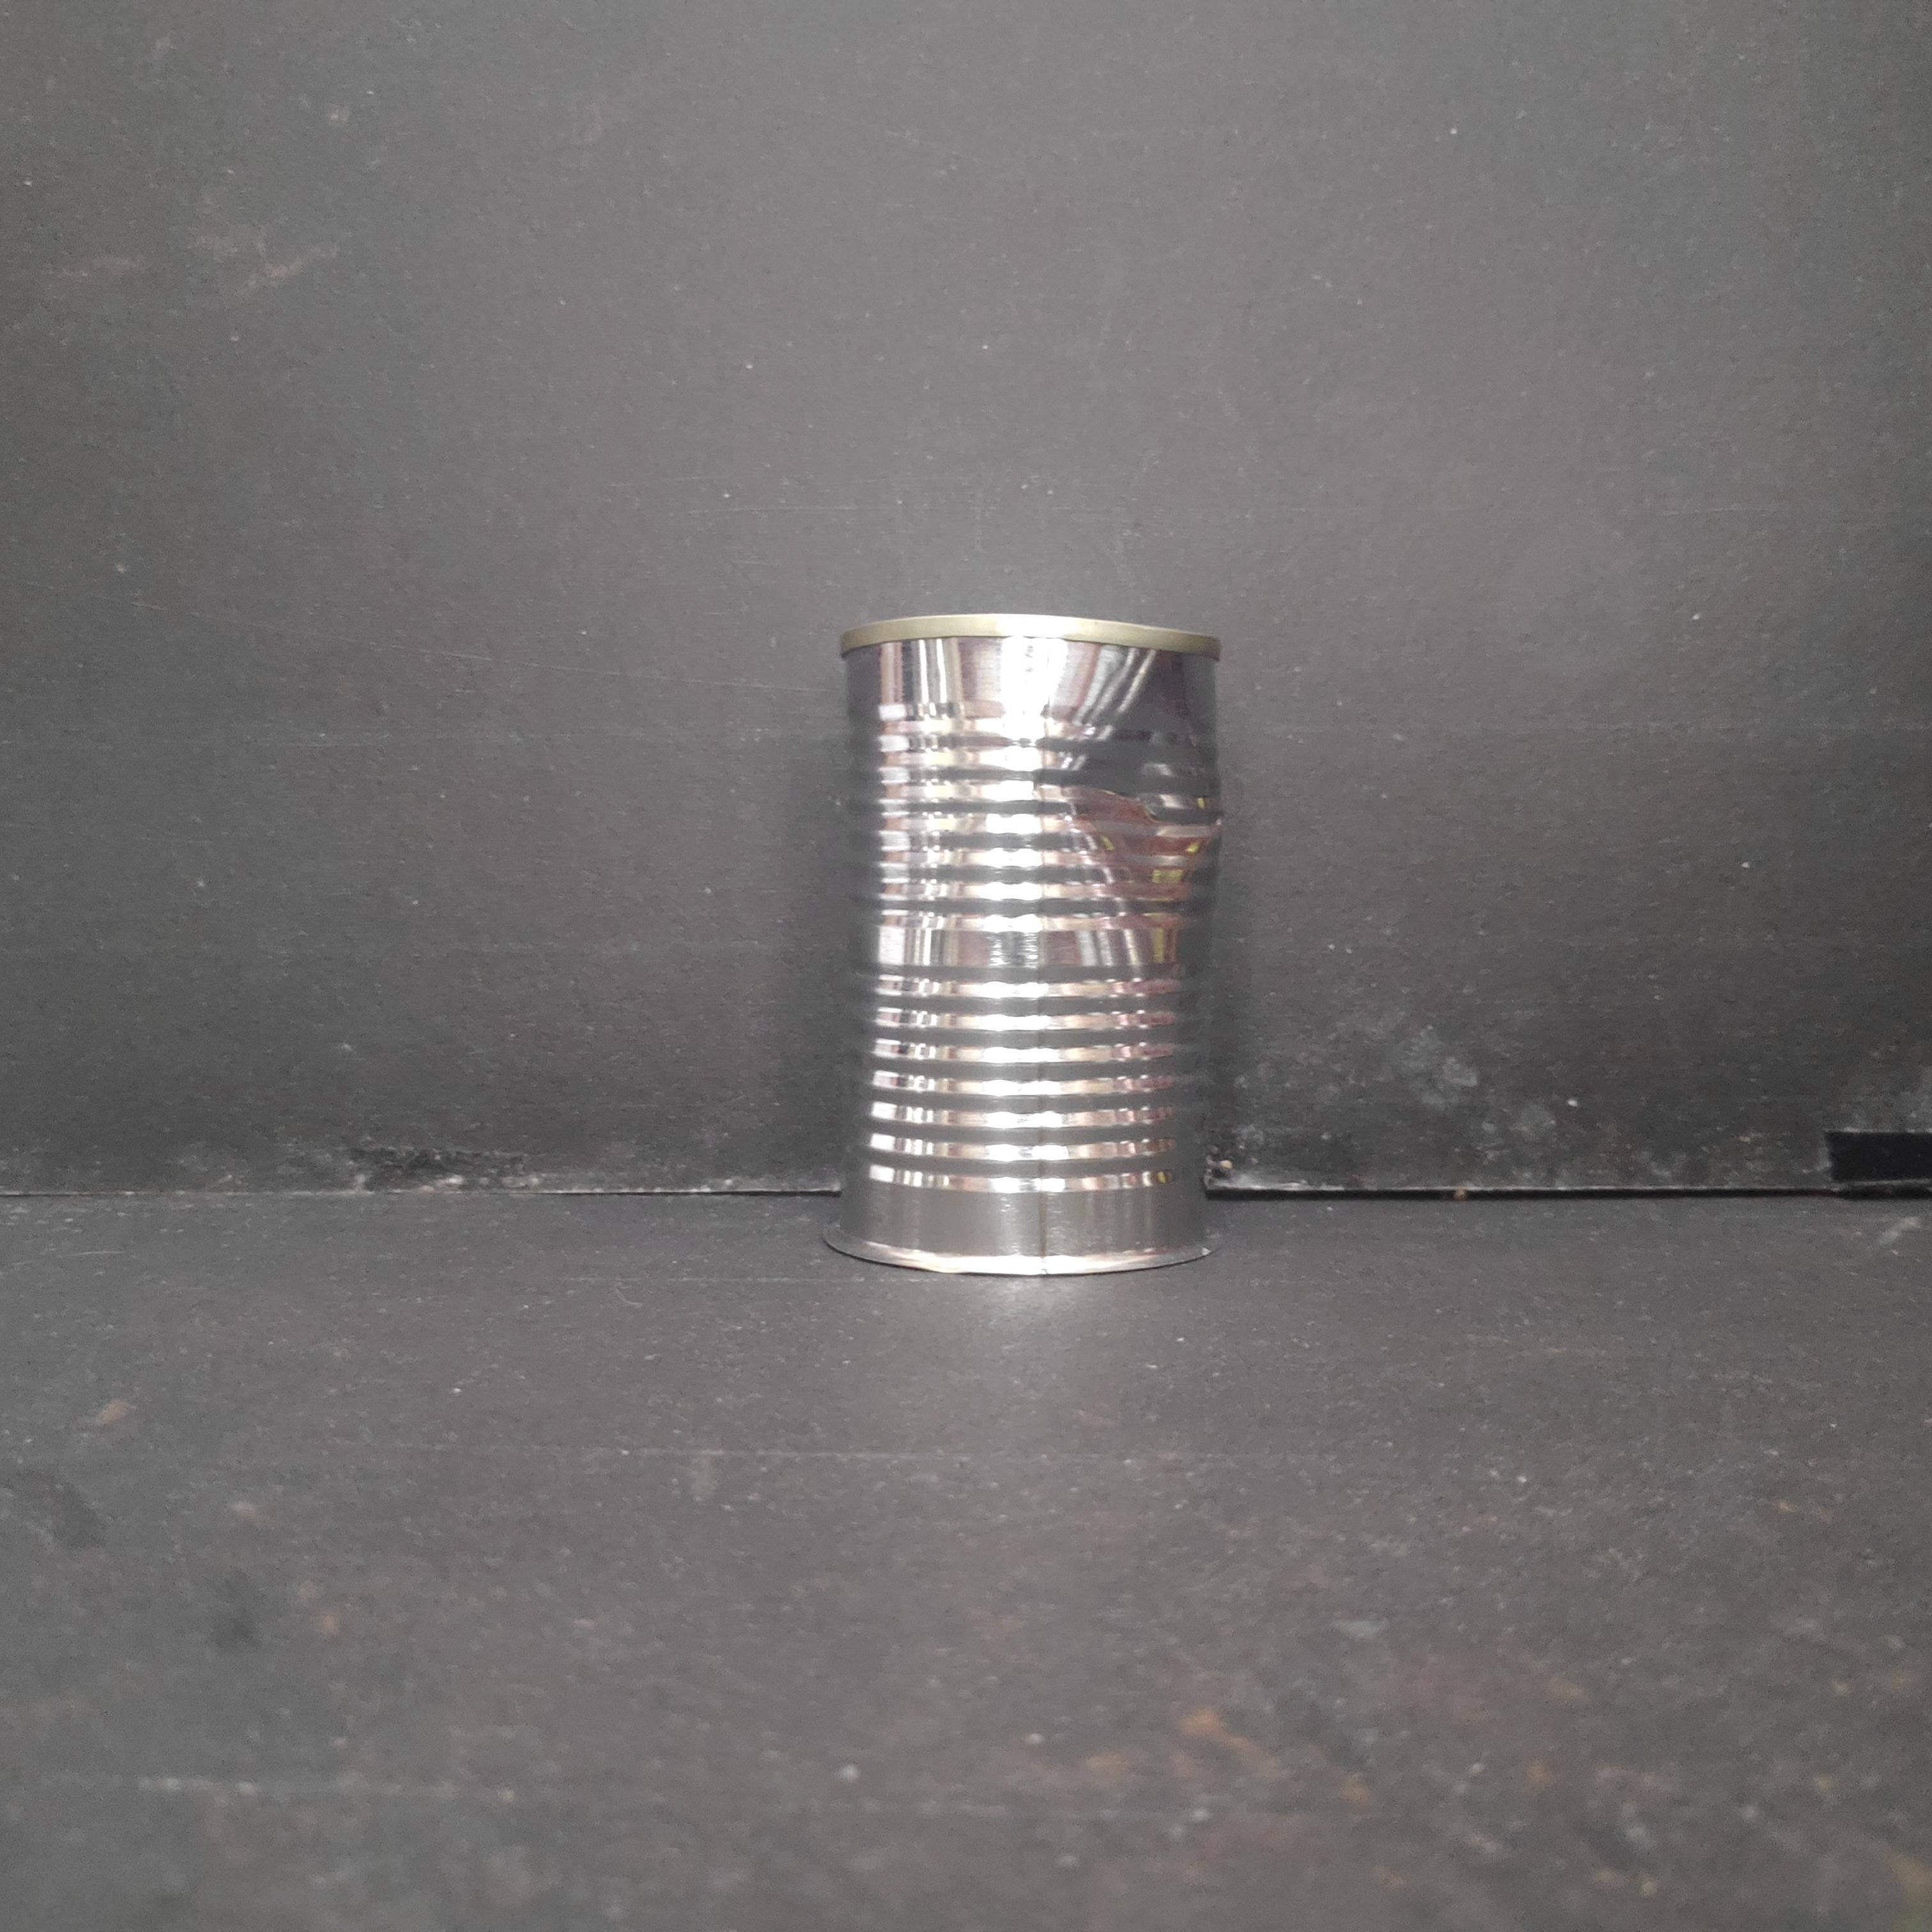Minor Defect: (828, 607, 1244, 1297)
